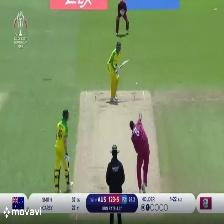ball: (133, 80, 143, 88)
batsman: (105, 40, 129, 103)
